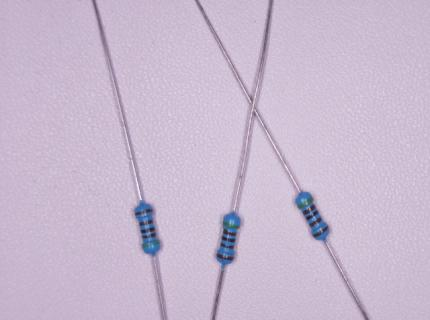Black band: (305, 210, 319, 221), (222, 235, 235, 243), (141, 227, 155, 233)
Brown band: (312, 226, 329, 238), (309, 216, 323, 228), (302, 204, 316, 215), (216, 253, 234, 261), (135, 209, 153, 216), (223, 228, 236, 236), (139, 219, 153, 226), (220, 242, 234, 249), (142, 233, 157, 239)
Green band: (297, 196, 314, 209), (223, 221, 240, 229), (142, 241, 160, 248)
